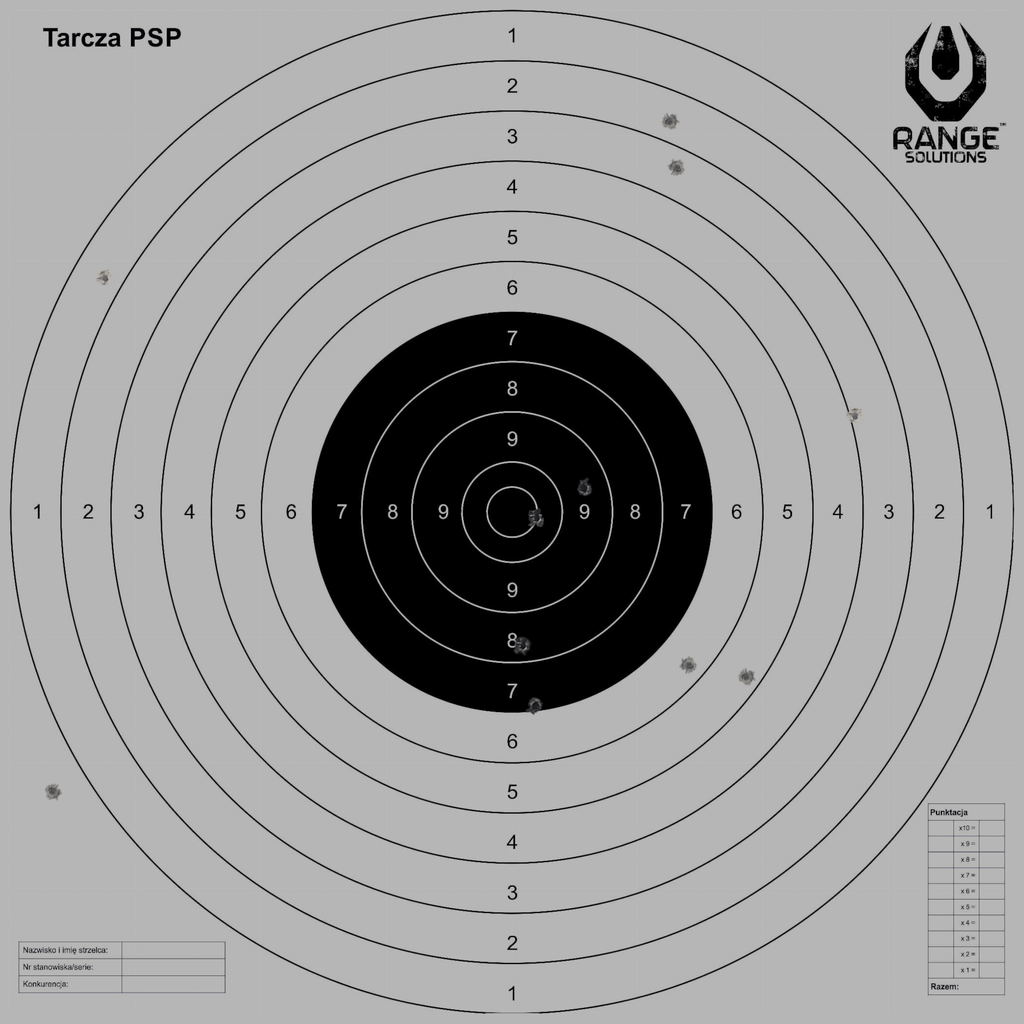0 punktow: (43, 782, 62, 801)
1 punkt: (96, 269, 114, 288)
10 punktow: (527, 508, 546, 527)
2 punkty: (660, 112, 679, 131)
3 punkty: (668, 159, 686, 177)
4 punkty: (846, 407, 864, 425)
5 punktow: (737, 668, 755, 686)
6 punktow: (680, 656, 698, 675)
7 punktow: (526, 696, 544, 715)
8 punktow: (514, 637, 532, 655)
9 punktow: (575, 479, 593, 497)
